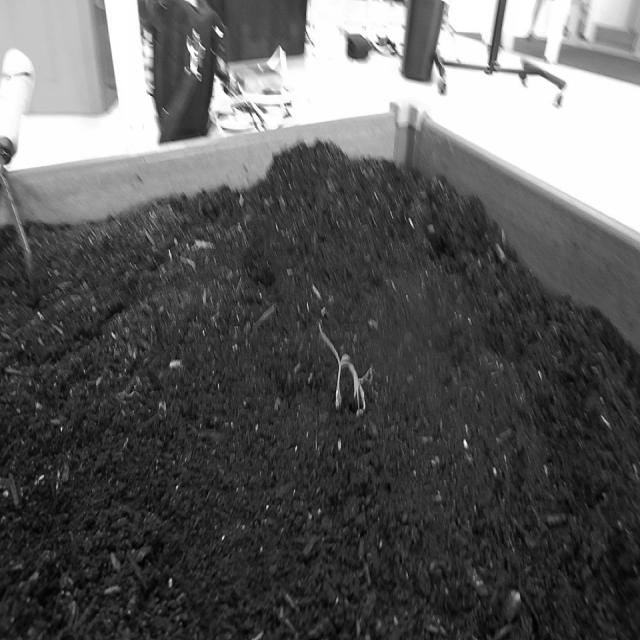Unhealthy: (307, 292, 382, 444)
